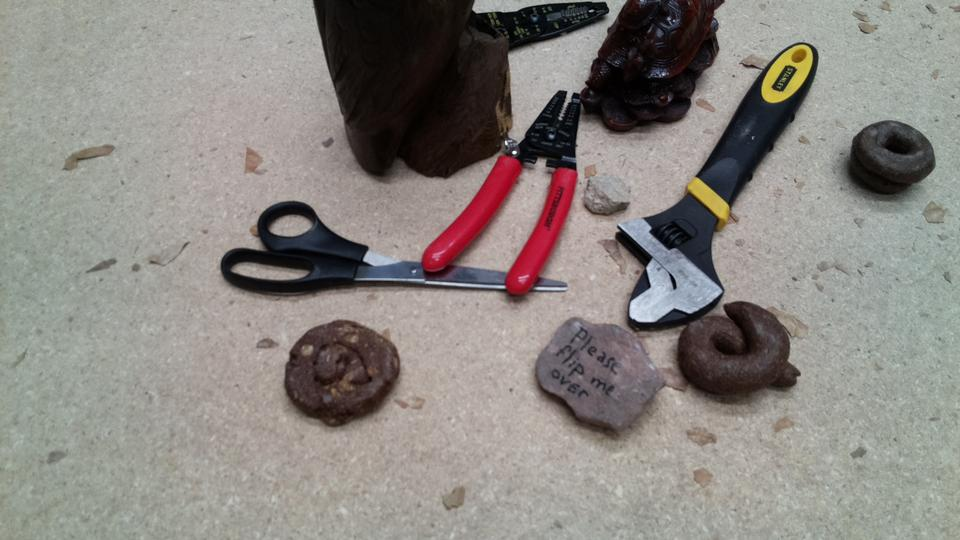poop: (280, 315, 406, 431), (674, 298, 805, 403), (847, 117, 941, 200)
